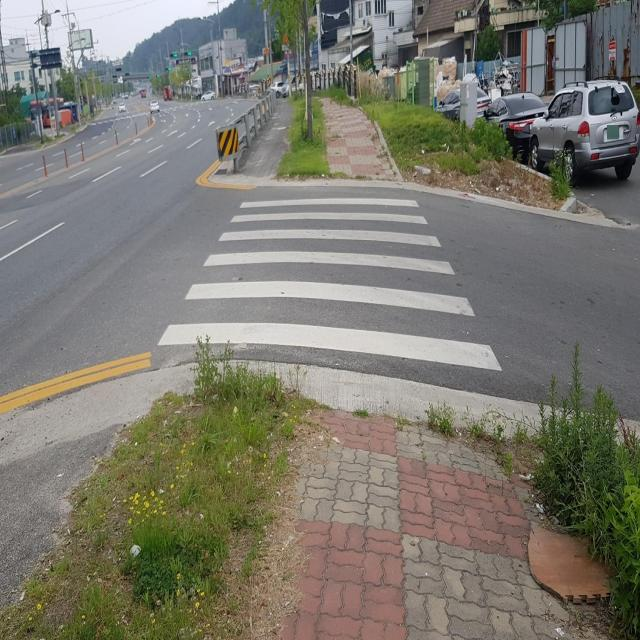횡단보도: (157, 196, 503, 373)
